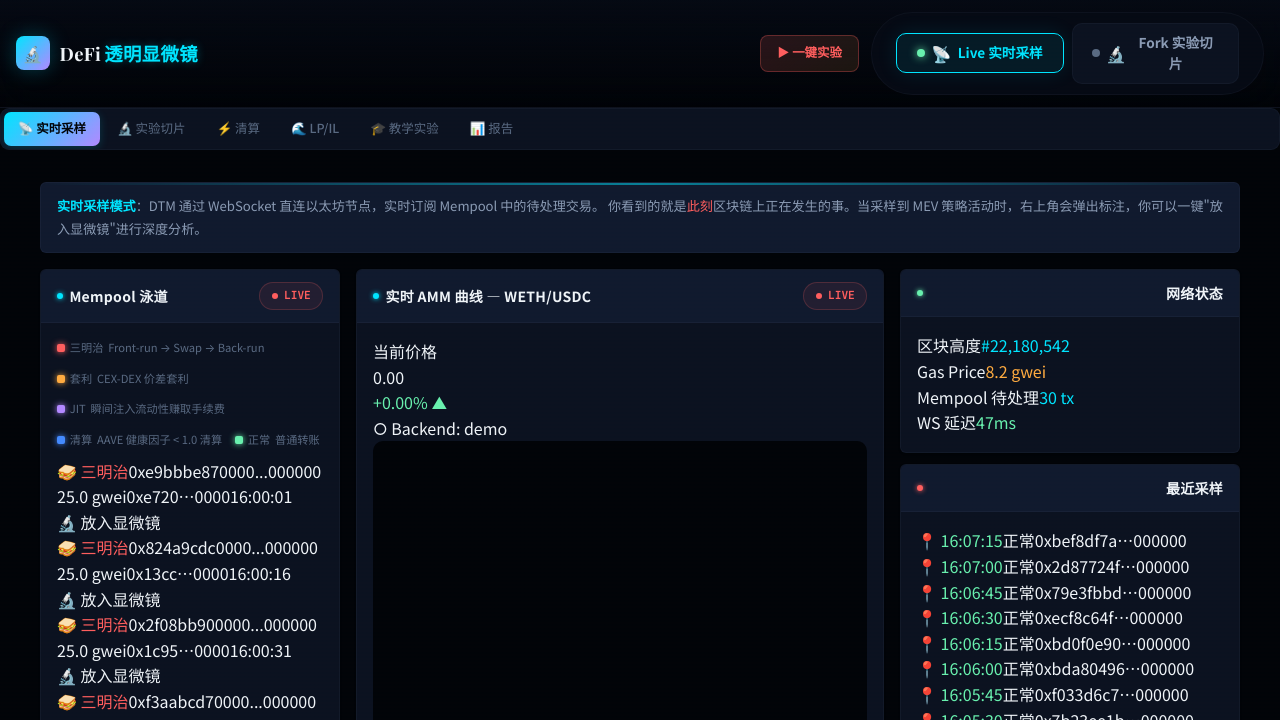
Scenario: App › switches pages when a nav tab is clicked
The width and height of the screenshot is (1280, 720).
expect the header with test id "app-header" is shown: met, box [0,0,1279,108]
// Click the 报告 (report) tab to navigate from the default live page.
Click the tab "📊 报告" at (492, 129), box [456,112,527,146]
(page scrolled)
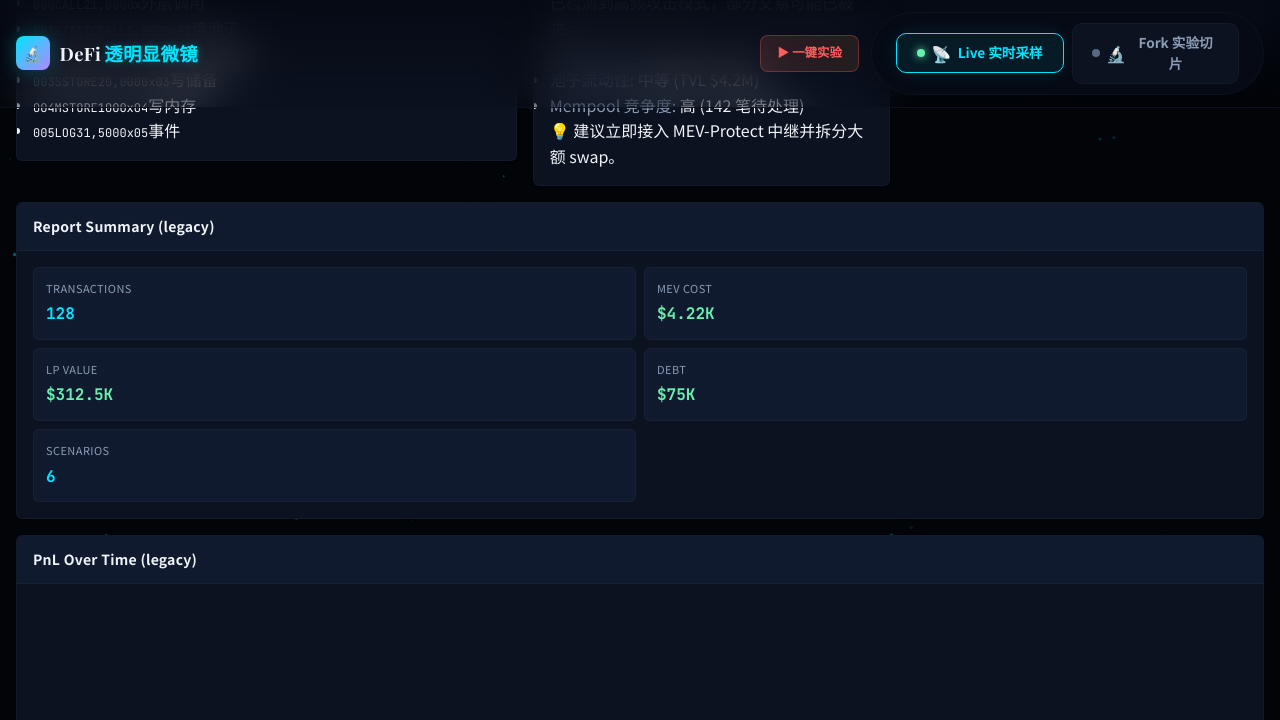
expect the element with test id "report-summary-panel" is shown: met, box [16,202,1264,519]
